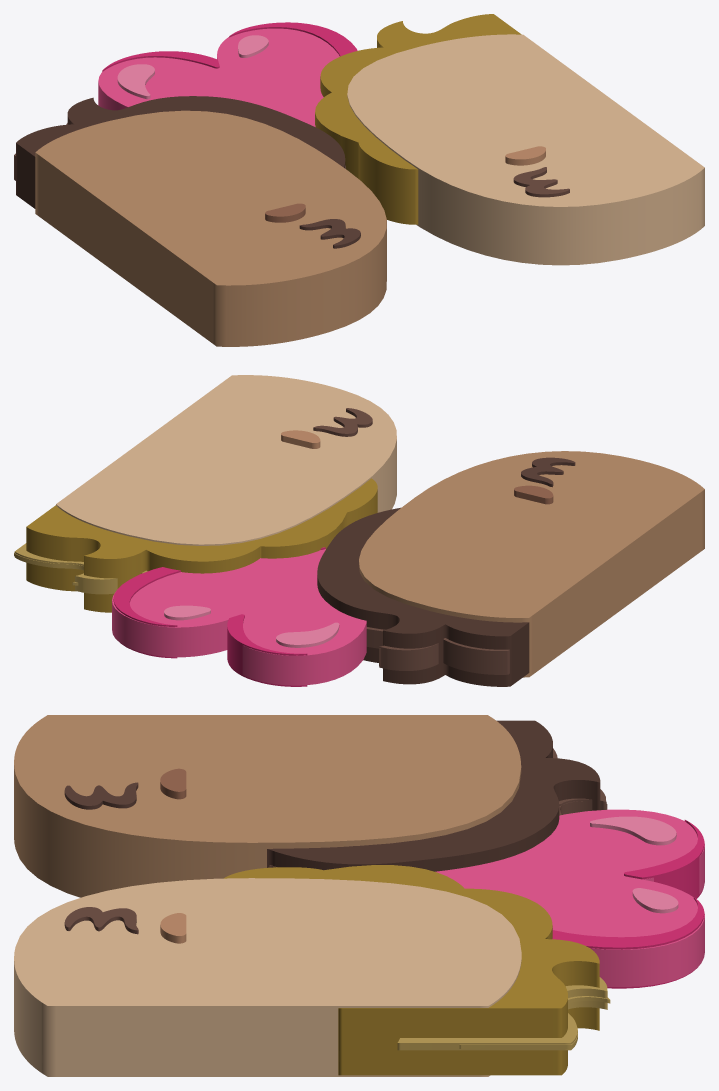
The model's file is emoji_u1f9d1_1f3fd_200d_2764_200d_1f48b_200d_1f9d1_1f3fc.glb.
The picture shows the model from 3 angles, top to bottom: view 1: azimuth 30°, elevation 25°; view 2: azimuth 150°, elevation 25°; view 3: azimuth 270°, elevation 25°; orthographic projection. The views are drawn at different scales.
Parts seen in each view (by area): view 1: emoji_u1f9d1_1f3fd_200d_2764_200d_1f48b_200d_1f9d1_1f3fc; view 2: emoji_u1f9d1_1f3fd_200d_2764_200d_1f48b_200d_1f9d1_1f3fc; view 3: emoji_u1f9d1_1f3fd_200d_2764_200d_1f48b_200d_1f9d1_1f3fc.
Part boxes in pixels (left/top/right/bottom): emoji_u1f9d1_1f3fd_200d_2764_200d_1f48b_200d_1f9d1_1f3fc: left=14, top=14, right=704, bottom=346; emoji_u1f9d1_1f3fd_200d_2764_200d_1f48b_200d_1f9d1_1f3fc: left=14, top=375, right=704, bottom=686; emoji_u1f9d1_1f3fd_200d_2764_200d_1f48b_200d_1f9d1_1f3fc: left=14, top=715, right=704, bottom=1076.
Size of the model in its own units: 0.0339 by 0.0048 by 0.0336.
